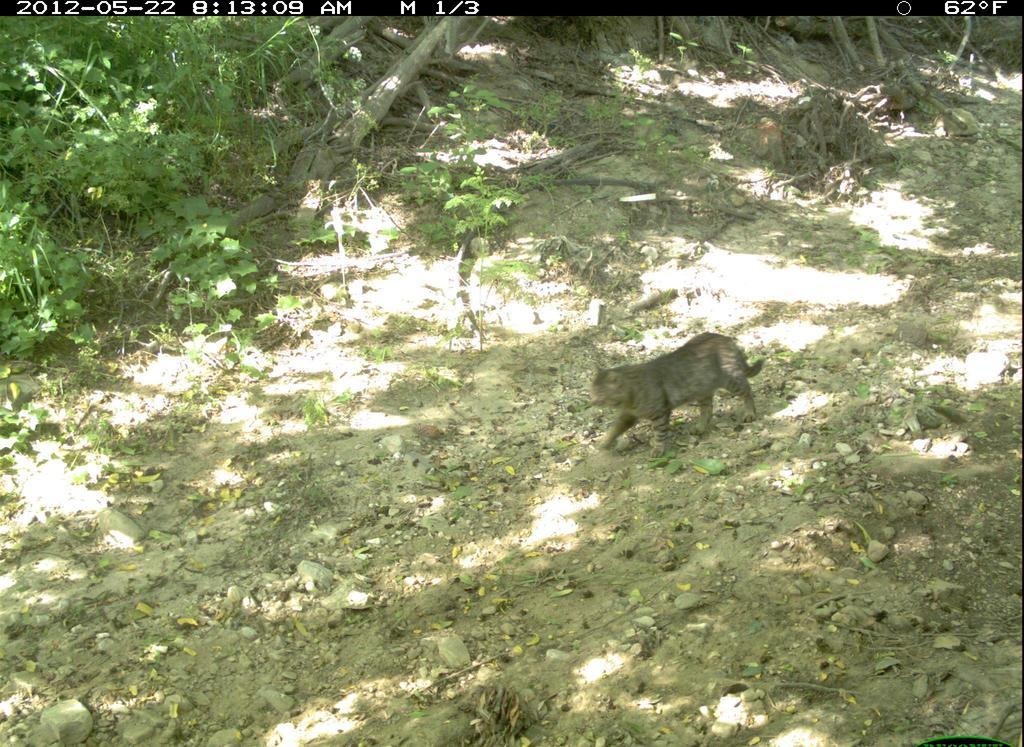cat: (587, 329, 771, 464)
